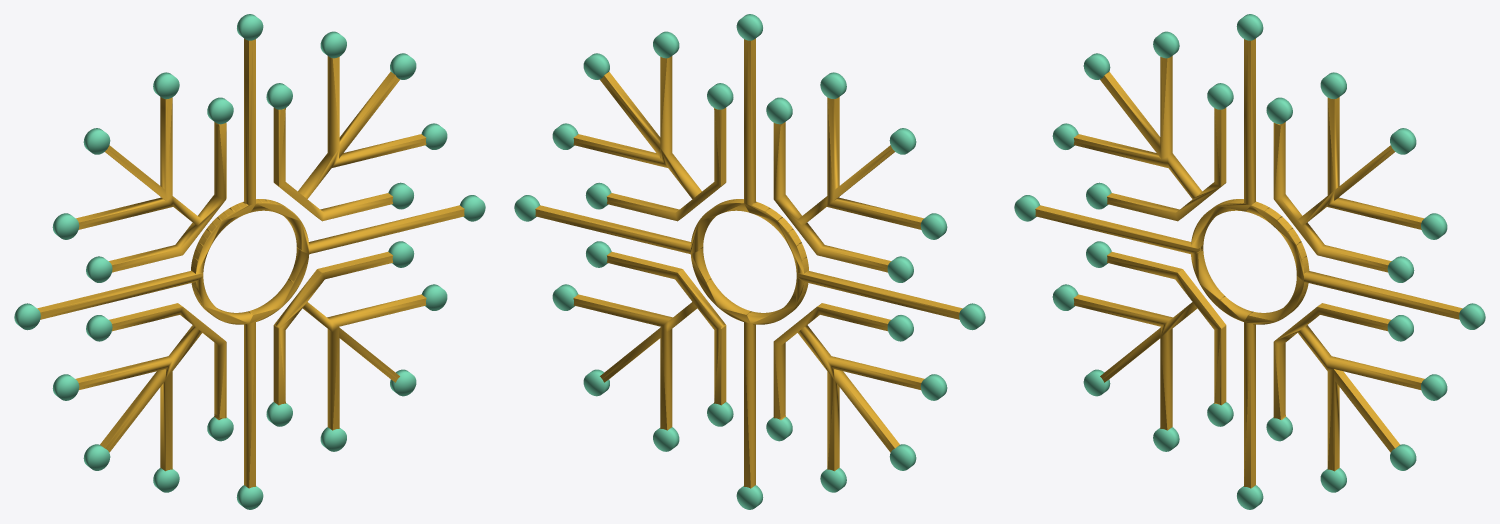
The model's file is sun-depth2.glb.
The picture shows the model from 3 angles, left to right: view 1: azimuth 30°, elevation 25°; view 2: azimuth 150°, elevation 25°; view 3: azimuth 330°, elevation 25°; orthographic projection.
Visible parts, largest first — view 1: circuit, node (×11), cardinal-w, cardinal-n; view 2: circuit, node (×11), cardinal-w, cardinal-n; view 3: circuit, node (×11), cardinal-e, cardinal-n.
Part boxes in pixels (box(x1,y1,x2,y2)): circuit: box(37, 38, 464, 488); node (×11): box(52, 31, 416, 470); cardinal-w: box(14, 303, 40, 330); cardinal-n: box(237, 14, 263, 40); circuit: box(535, 38, 962, 488); node (×11): box(583, 31, 947, 470); cardinal-w: box(959, 303, 985, 330); cardinal-n: box(736, 14, 762, 40); circuit: box(1035, 38, 1462, 488); node (×11): box(1083, 31, 1447, 470); cardinal-e: box(1459, 303, 1485, 329); cardinal-n: box(1236, 14, 1263, 40).
Bounding box in the file's own units: 1536 × 1548 × 29.28.
